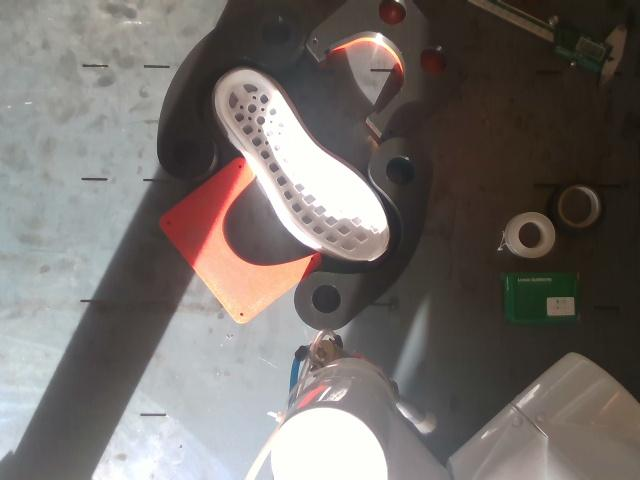shoes: (216, 71, 390, 260)
